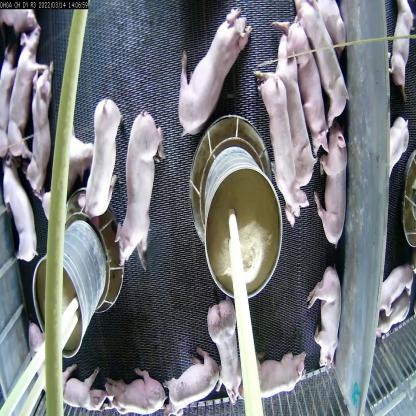Pig: (176, 11, 251, 135), (267, 30, 321, 181), (116, 110, 166, 270), (296, 0, 360, 118), (254, 53, 298, 221), (38, 118, 100, 237), (284, 7, 334, 144), (26, 65, 67, 200), (80, 93, 122, 222), (205, 301, 255, 409), (0, 158, 39, 288), (304, 258, 342, 374), (312, 138, 348, 256), (10, 32, 42, 164), (366, 244, 414, 316), (246, 351, 310, 405), (163, 362, 228, 415), (30, 319, 68, 400), (104, 368, 167, 415), (69, 373, 108, 415)
